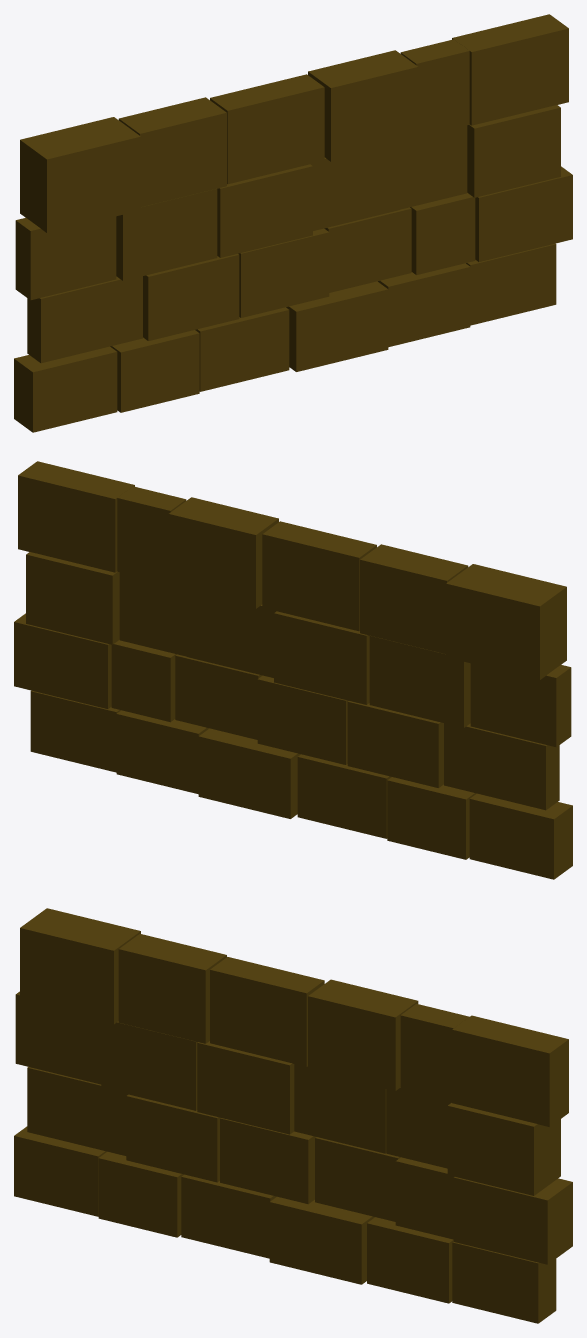
Rendered from RandWall.fbx.
3 views of the same model, one above another, from view 1: azimuth 30°, elevation 25°; view 2: azimuth 150°, elevation 25°; view 3: azimuth 330°, elevation 25° (orthographic).
Visible parts, largest first — view 1: Wall; view 2: Wall; view 3: Wall.
Boxes of the visible parts, left/top/right/bottom form: Wall: left=14, top=14, right=572, bottom=432; Wall: left=14, top=461, right=572, bottom=879; Wall: left=14, top=908, right=572, bottom=1323.
Bounding box in the file's own units: 3054 × 1487 × 266.
